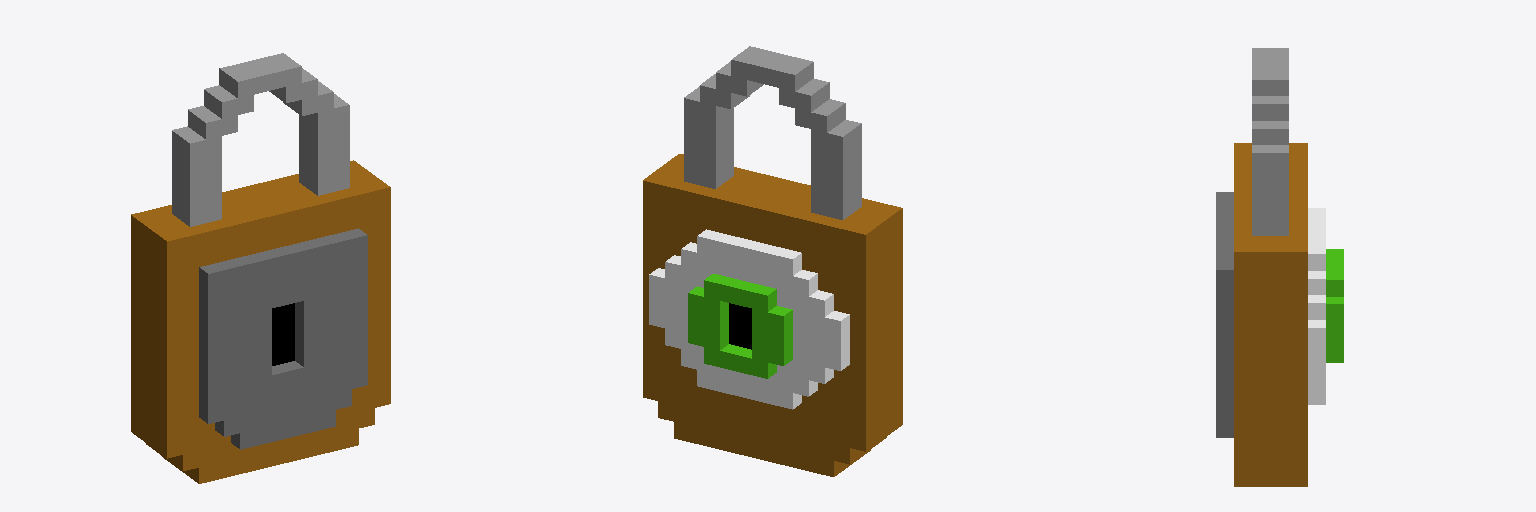
3 renders of one model, left to right at view 1: azimuth 30°, elevation 25°; view 2: azimuth 150°, elevation 25°; view 3: azimuth 270°, elevation 25°, orthographic.
Parts seen in each view (by area): view 1: object 1; view 2: object 1; view 3: object 1.
Part boxes in pixels (bbox=[...]): object 1: bbox=[131, 53, 390, 483]; object 1: bbox=[643, 46, 902, 476]; object 1: bbox=[1216, 48, 1343, 486].
Size of the model in its own units: 1.4 by 2.3 by 0.7.
1 materials, 1 textured.